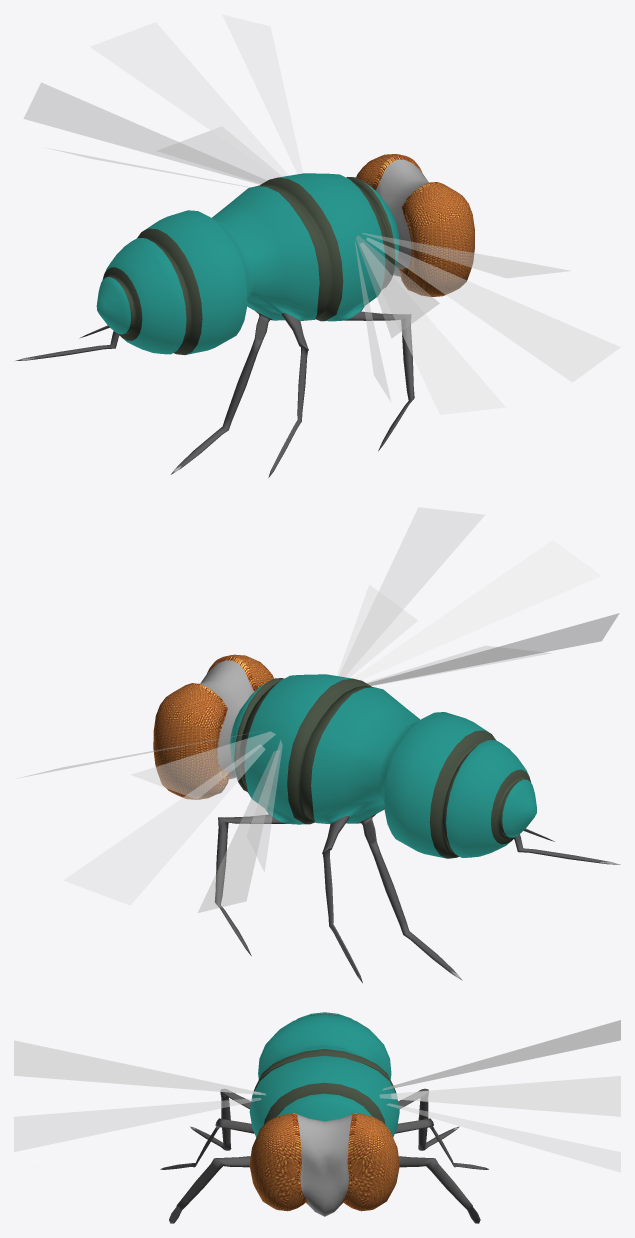
Rendered from fly02.fbx.
The picture shows the model from 3 angles, top to bottom: view 1: azimuth 30°, elevation 25°; view 2: azimuth 150°, elevation 25°; view 3: azimuth 270°, elevation 25°; orthographic projection. The views are drawn at different scales.
Visible parts, largest first — view 1: fly01, polySurface1; view 2: fly01, polySurface1; view 3: fly01, polySurface1.
Boxes of the visible parts, bbox=[...] form: fly01: bbox=[14, 154, 474, 477]; polySurface1: bbox=[23, 15, 620, 414]; fly01: bbox=[153, 654, 620, 982]; polySurface1: bbox=[22, 507, 619, 912]; fly01: bbox=[160, 1012, 488, 1223]; polySurface1: bbox=[14, 1020, 620, 1172].
Bounding box in the file's own units: 0.0799 × 0.0498 × 0.1375.
